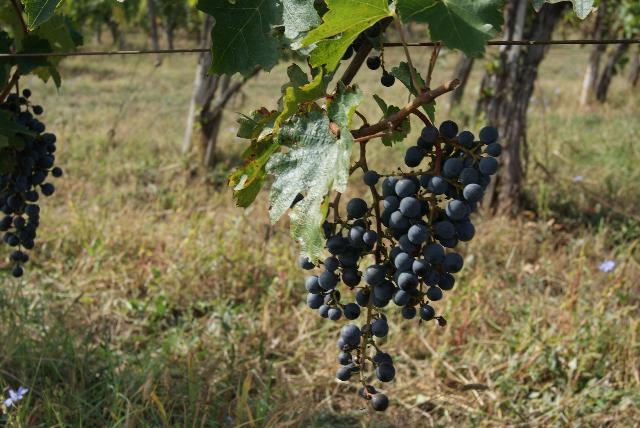grapes: (381, 121, 501, 322), (305, 170, 396, 382)
